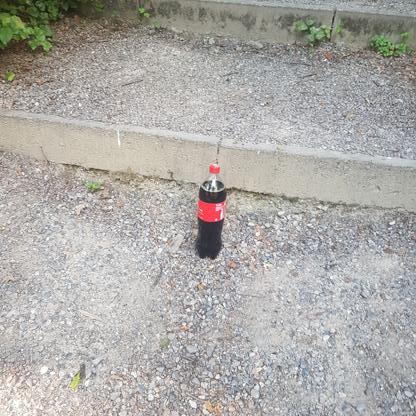coca-cola: (194, 162, 228, 262)
